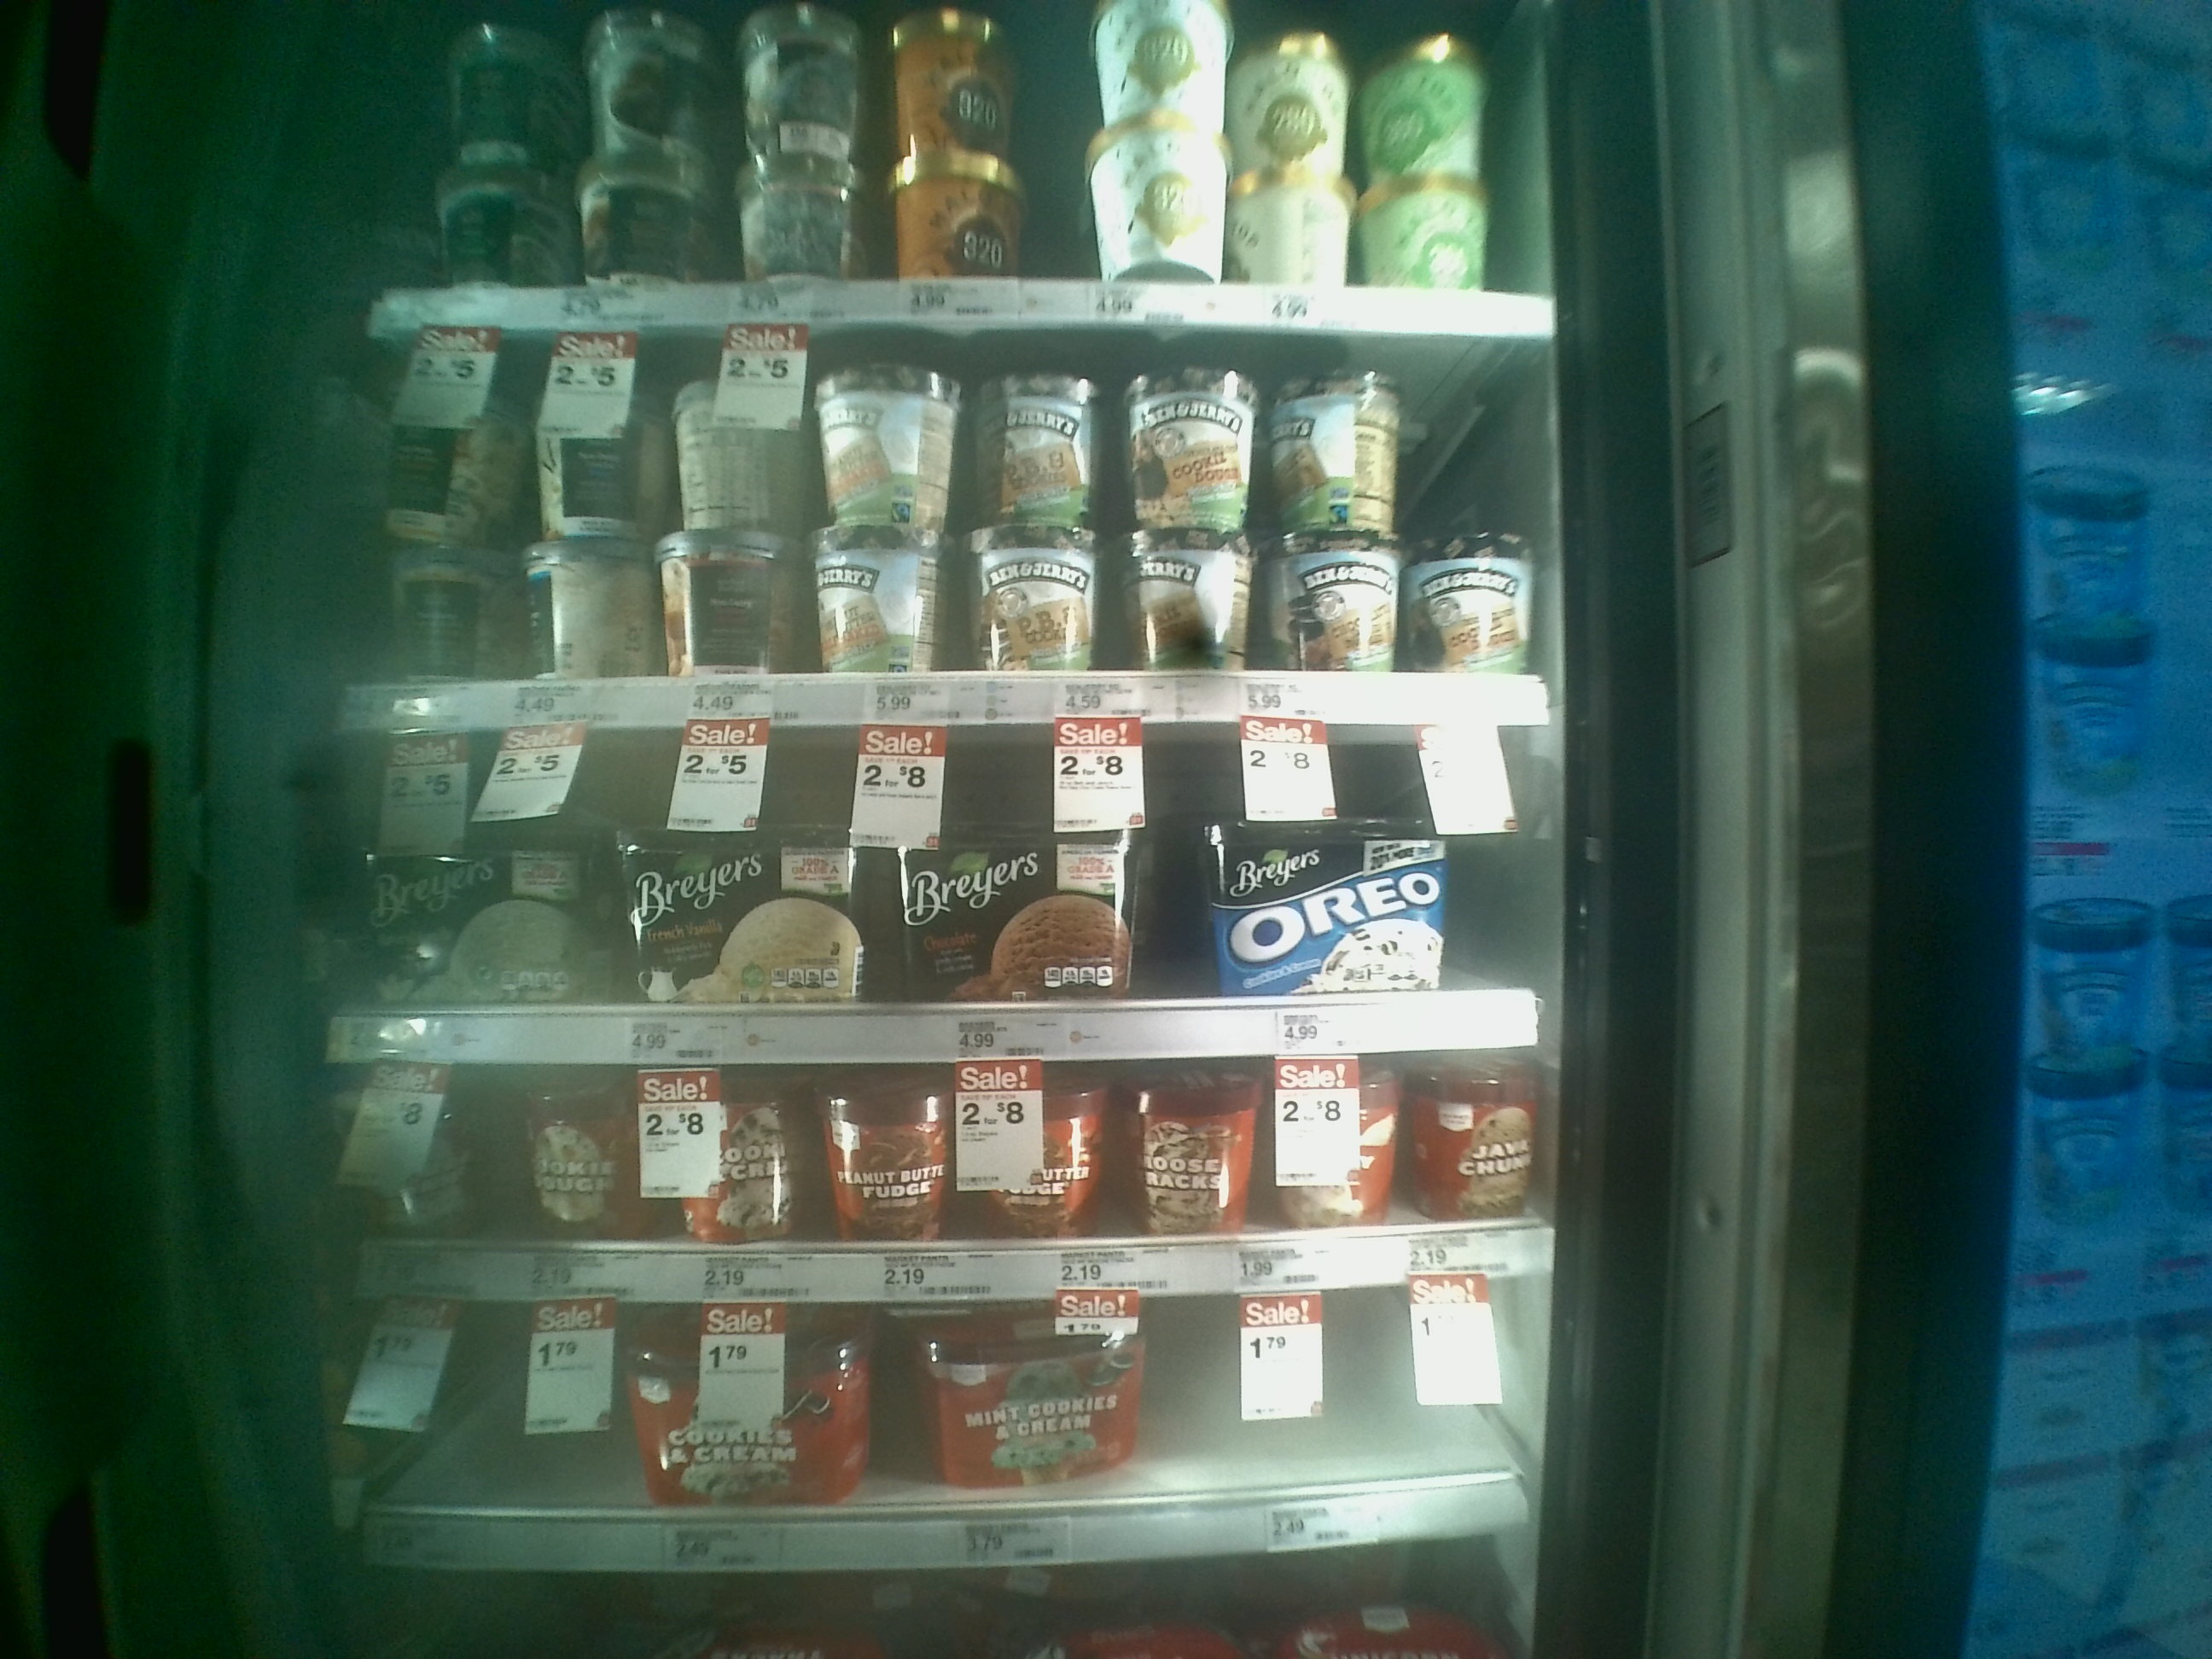shelf: (364, 319, 1564, 728), (359, 728, 1561, 1060), (329, 1293, 1559, 1575), (331, 1063, 1576, 1297)
